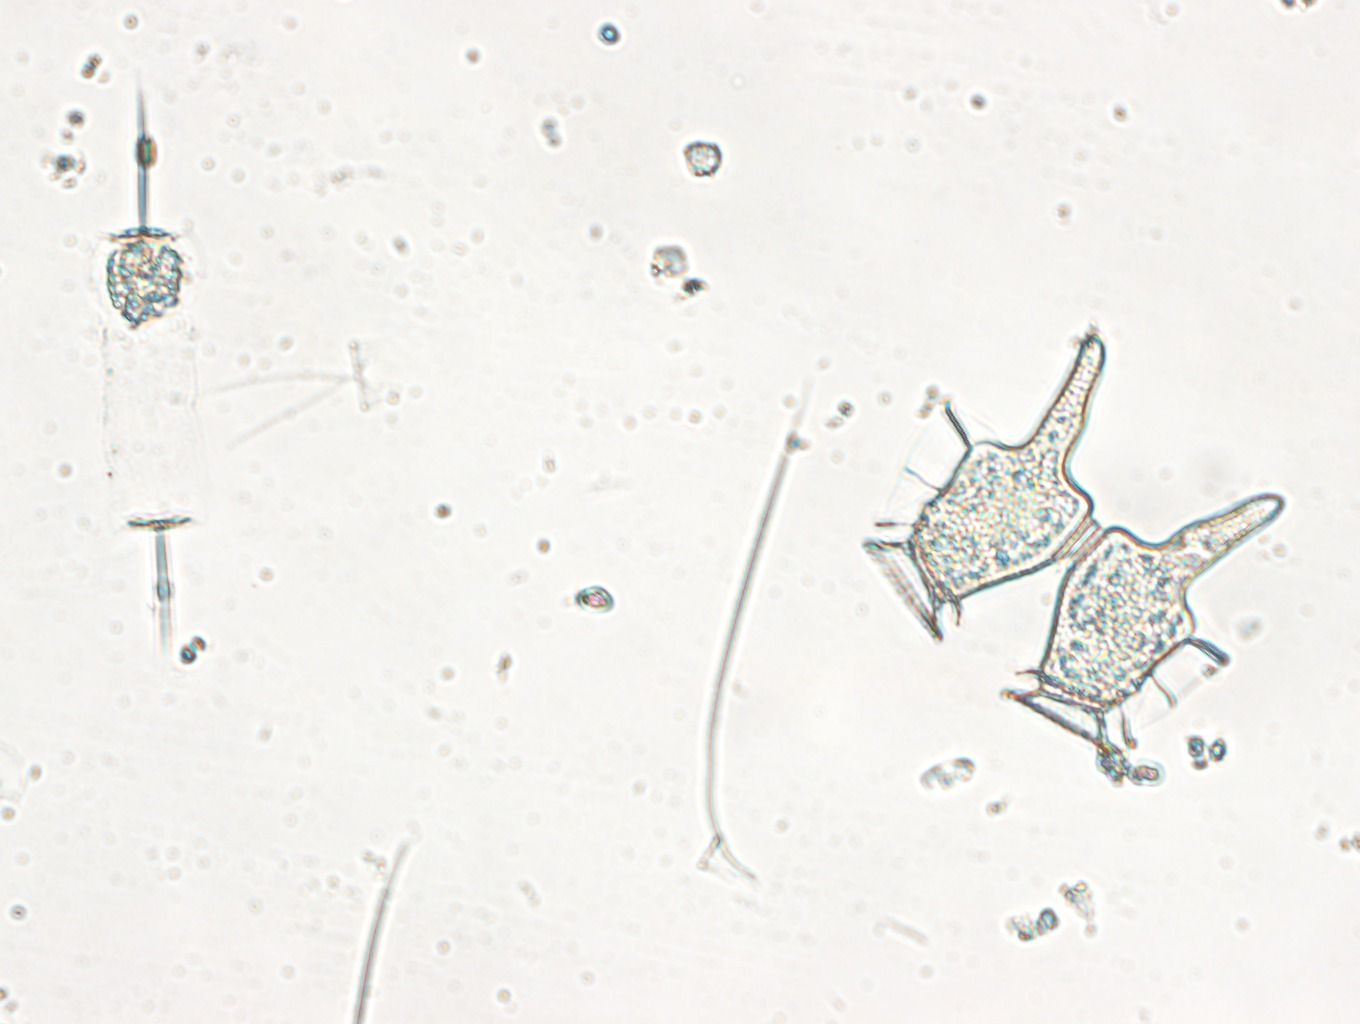dinophysis caudata: (867, 323, 1295, 736)
